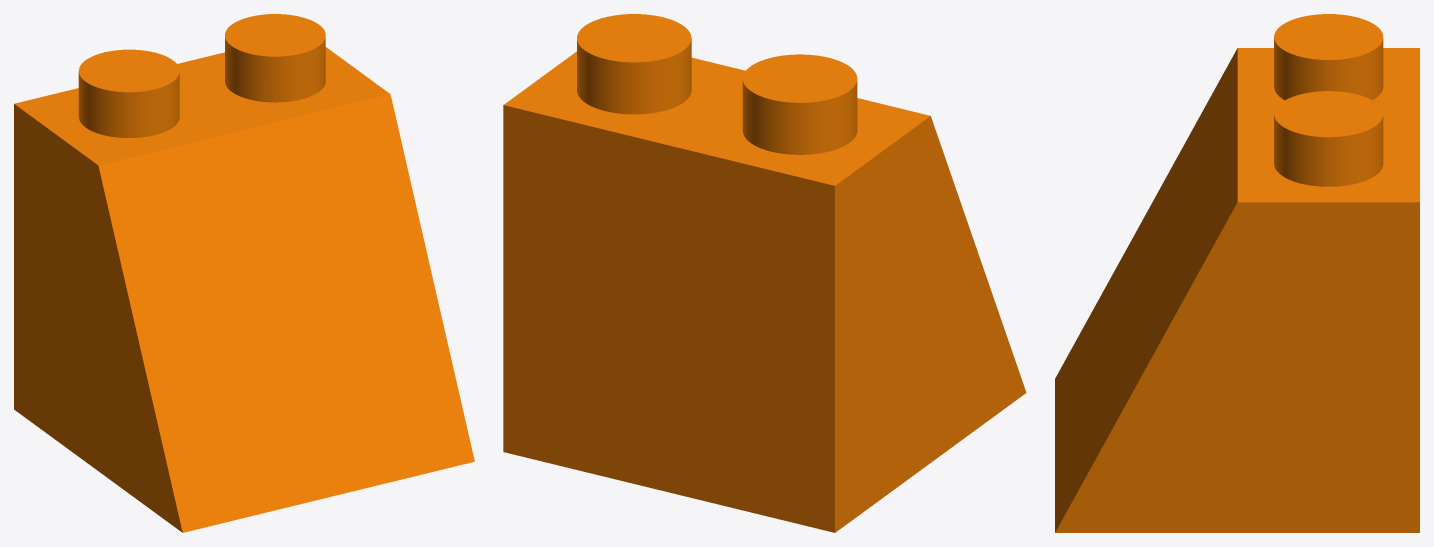
File: 2x2 Ramp.glb
3 renders of one model, left to right at view 1: azimuth 30°, elevation 25°; view 2: azimuth 150°, elevation 25°; view 3: azimuth 270°, elevation 25°, orthographic. The views are drawn at different scales.
Parts seen in each view (by area): view 1: 2x2 Ramp; view 2: 2x2 Ramp; view 3: 2x2 Ramp.
Part boxes in pixels (left/top/right/bottom): 2x2 Ramp: left=14, top=14, right=474, bottom=532; 2x2 Ramp: left=503, top=14, right=1026, bottom=532; 2x2 Ramp: left=1055, top=14, right=1419, bottom=532.
Size of the model in its own units: 0.02 by 0.023 by 0.02.
